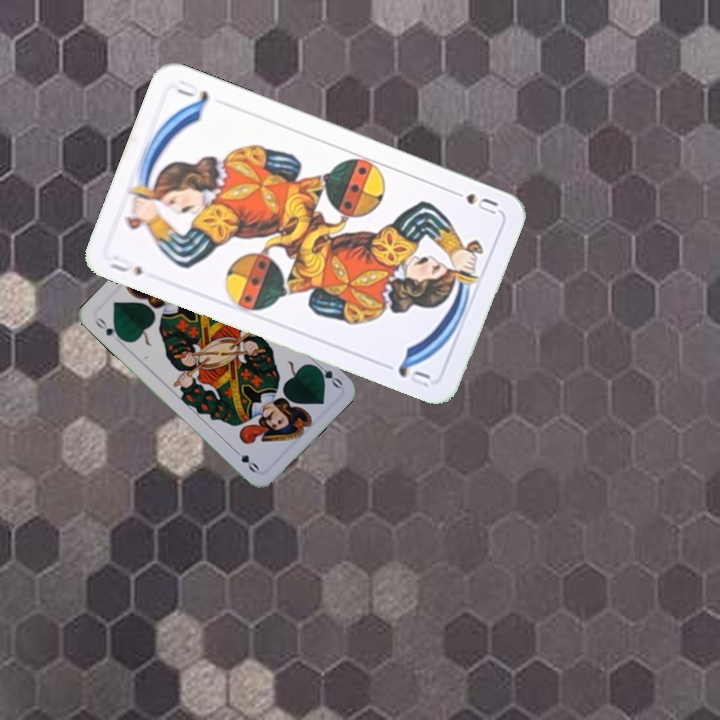GO: (309, 358, 345, 391), (91, 313, 126, 343)
SU: (445, 185, 501, 217), (105, 254, 145, 279)
